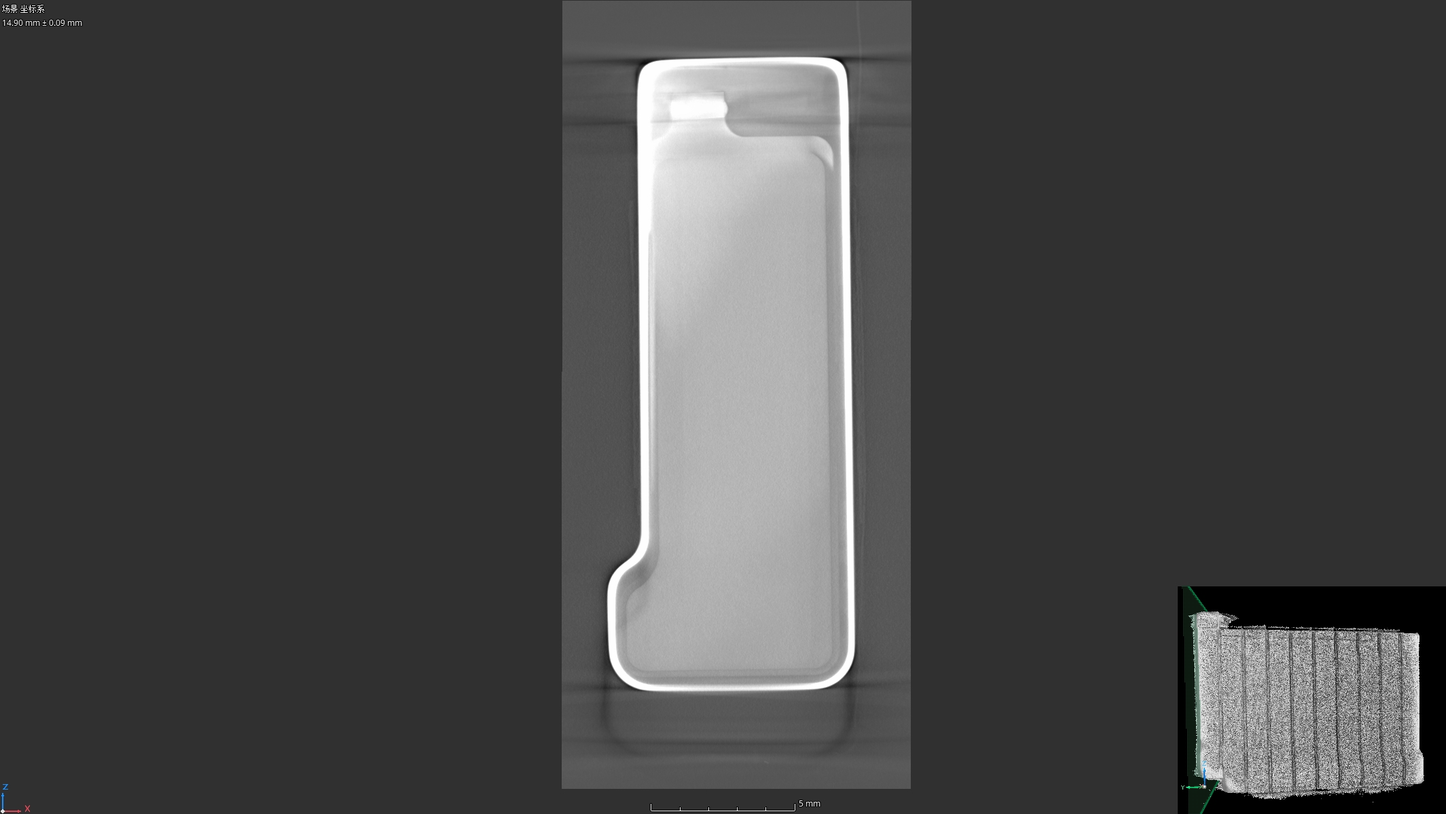damage: (804, 132, 837, 174)
